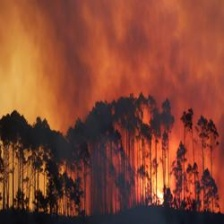fire: (139, 135, 183, 216)
smoke: (28, 3, 197, 122)
